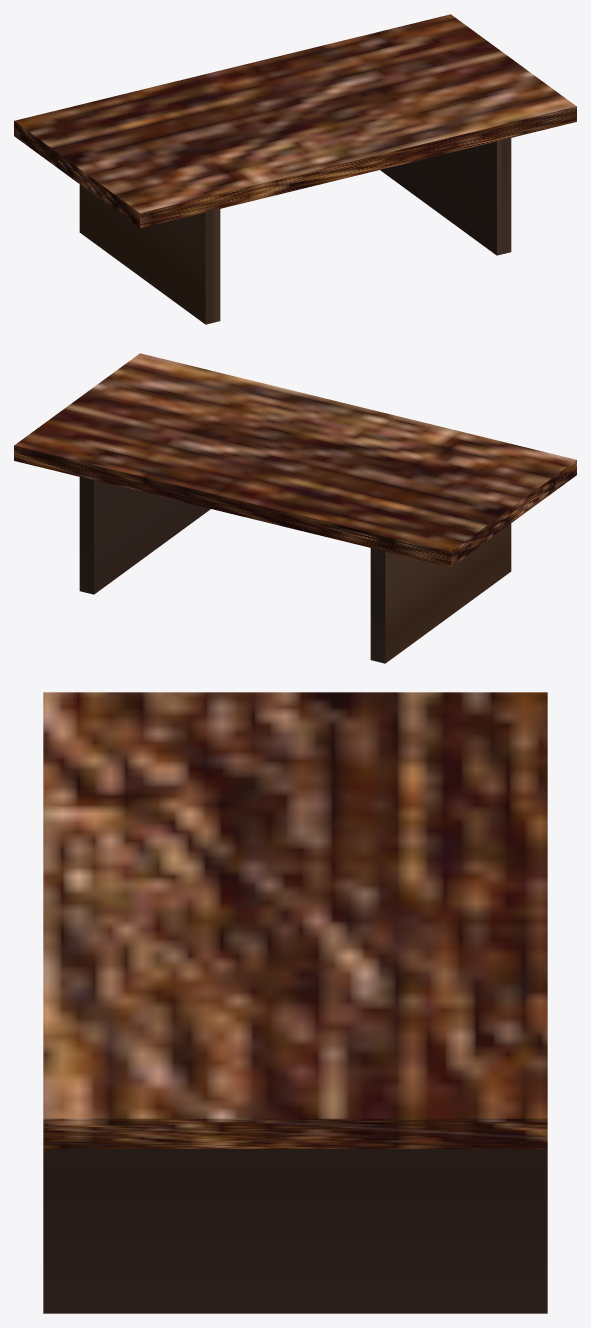
File: Table.obj
The picture shows the model from 3 angles, top to bottom: view 1: azimuth 30°, elevation 25°; view 2: azimuth 150°, elevation 25°; view 3: azimuth 270°, elevation 25°; orthographic projection. The views are drawn at different scales.
Visible parts, largest first — view 1: Cube.001_Cube, Cube.003_Cube.002, Cube.002_Cube.003; view 2: Cube.001_Cube, Cube.003_Cube.002, Cube.002_Cube.003; view 3: Cube.001_Cube, Cube.002_Cube.003.
Part boxes in pixels (left/top/right/bottom): Cube.001_Cube: left=14, top=14, right=576, bottom=228; Cube.003_Cube.002: left=79, top=184, right=220, bottom=324; Cube.002_Cube.003: left=380, top=138, right=511, bottom=255; Cube.001_Cube: left=14, top=353, right=576, bottom=567; Cube.003_Cube.002: left=370, top=523, right=511, bottom=663; Cube.002_Cube.003: left=79, top=477, right=210, bottom=594; Cube.001_Cube: left=43, top=692, right=547, bottom=1148; Cube.002_Cube.003: left=43, top=1149, right=547, bottom=1313.
Size of the model in its own units: 6 by 1.7 by 3.
2 materials, 2 textured.
